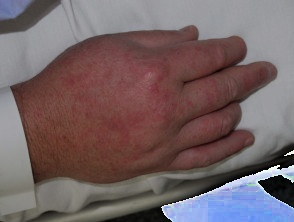SJS-TEN: (6, 8, 294, 197)
